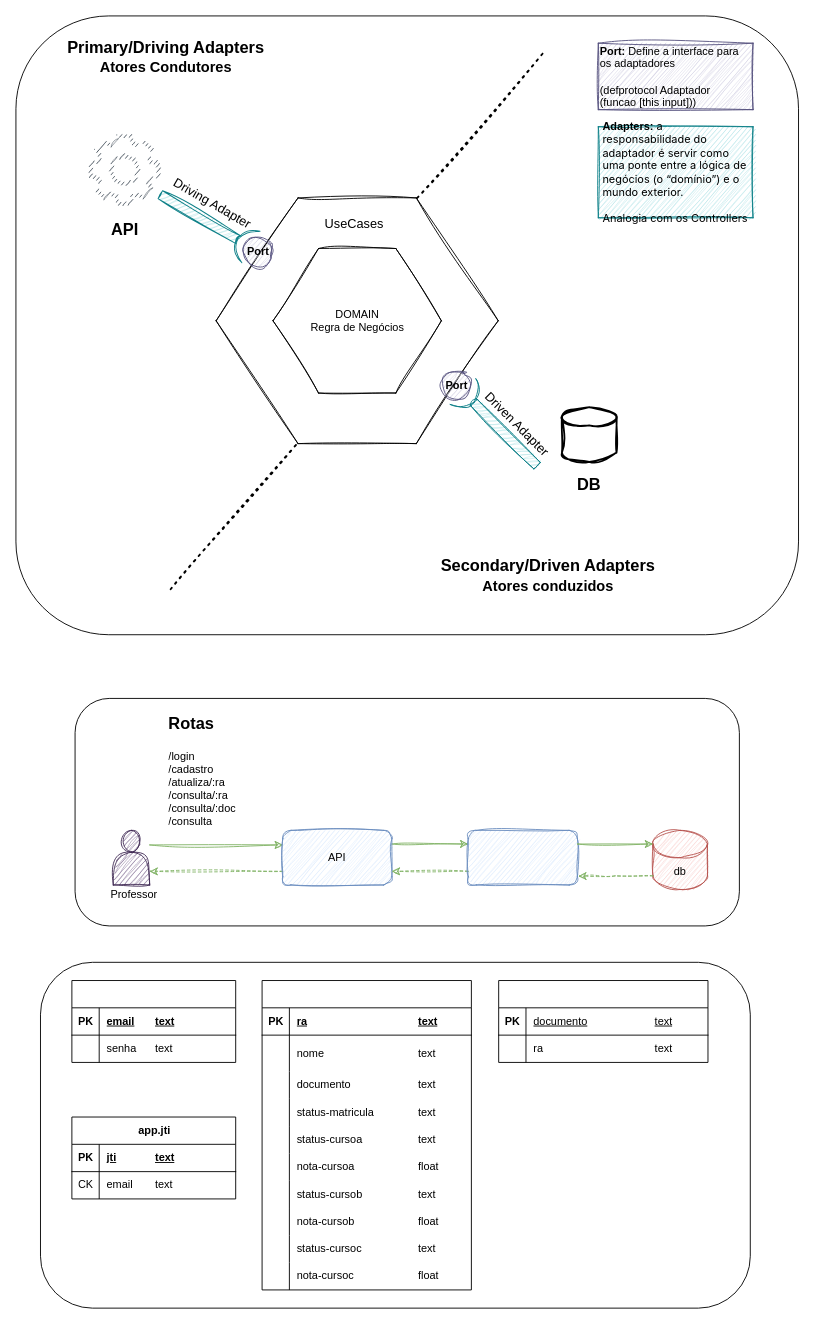
The diagram is 814 pixels wide and 1324 high, and some of its shapes have lost their labels. Each missing label, with the box of its shape:
app.aluno_por_ra: (261, 980, 471, 1290)
app.ra_por_doc: (498, 980, 708, 1062)
app.users: (71, 980, 236, 1062)
Application: (467, 829, 577, 885)
